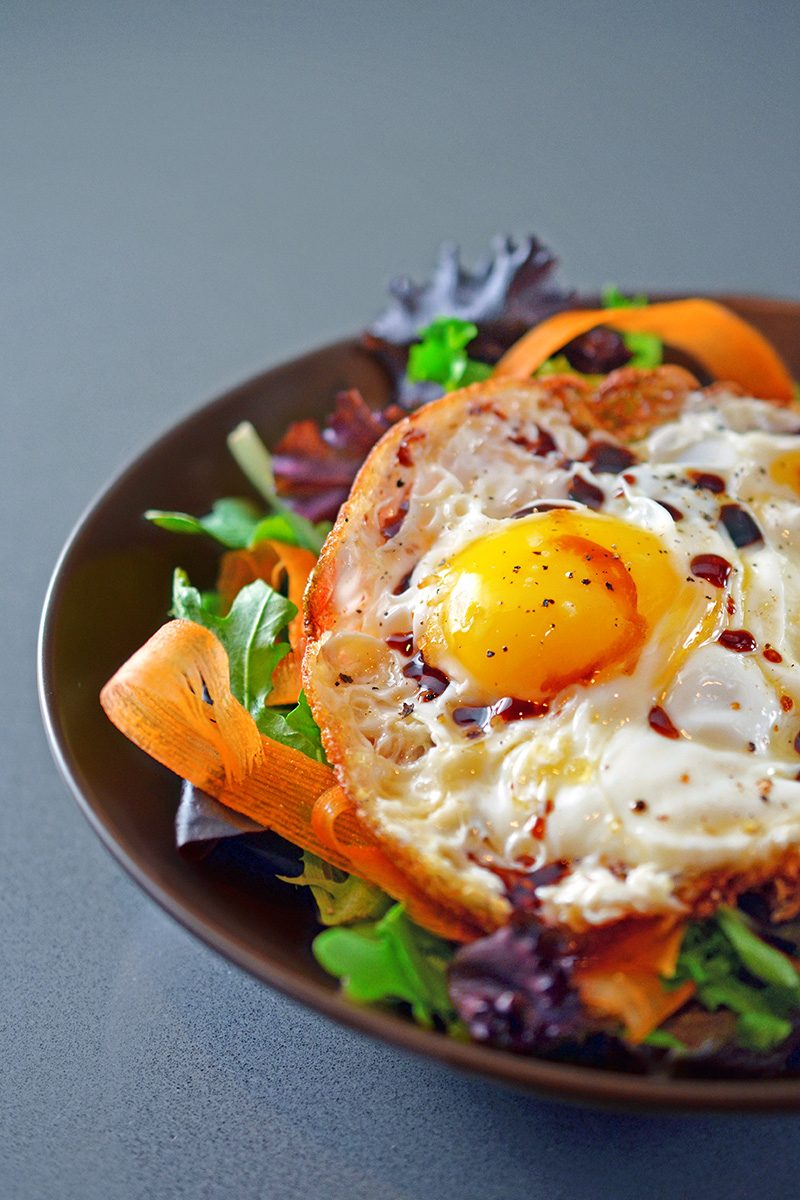chopped lettuce: (181, 586, 320, 746), (325, 903, 432, 1023)
fried egg: (376, 411, 800, 834)
